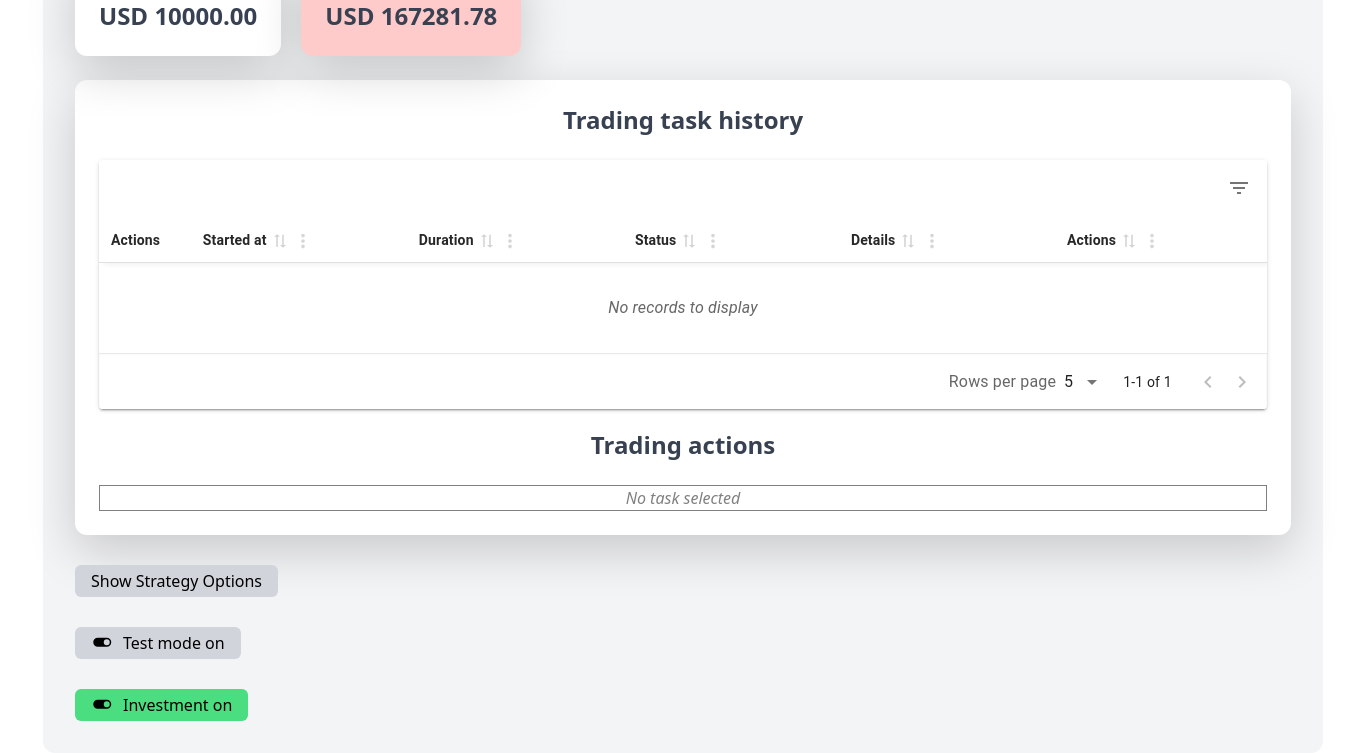
Scenario: handles switching test mode
(page scrolled)
Click the button with test id "test-mode-on-button" at (158, 643), box 75,627 -> 241,659
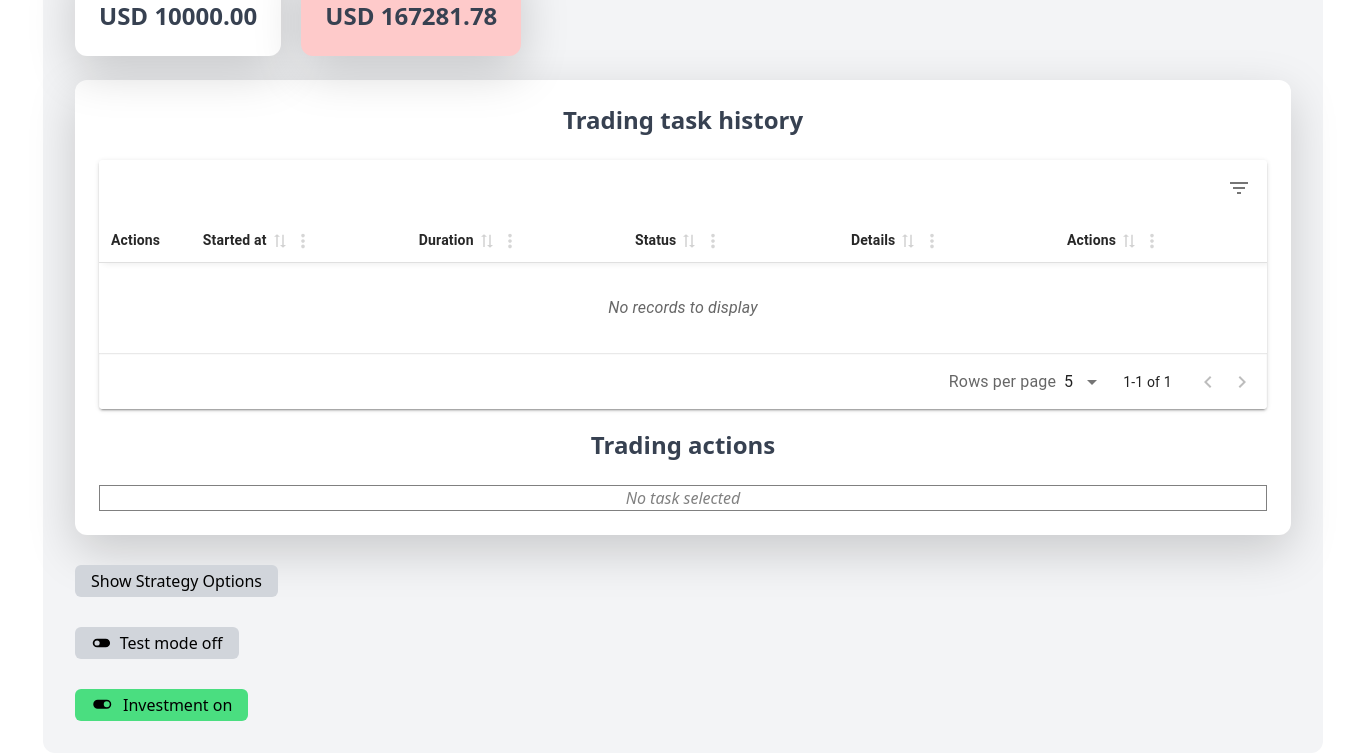
Result: the button with test id "test-mode-off-button" is shown at 75,627 -> 239,659
